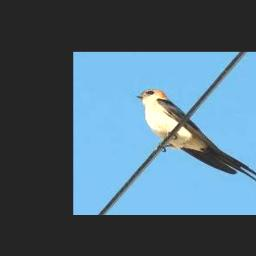Swallow: (136, 89, 256, 188)
